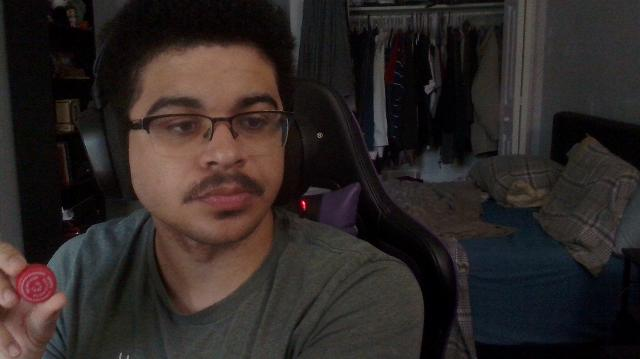cap: (16, 264, 56, 304)
